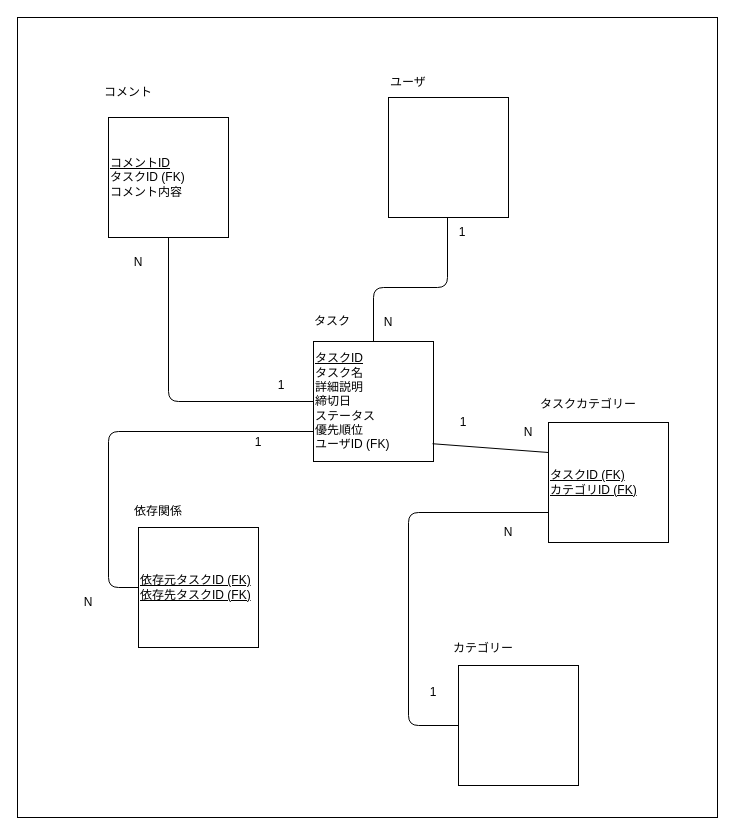
Some shapes in this 735 by 835 pixel diagram are drawn without their labels. Here are the shapes that lost their labels. From the top down, the box of each, then its label:
(388, 96, 508, 218): ユーザID 名前 連絡先情報 役割
(458, 664, 578, 786): カテゴリID カテゴリ名
